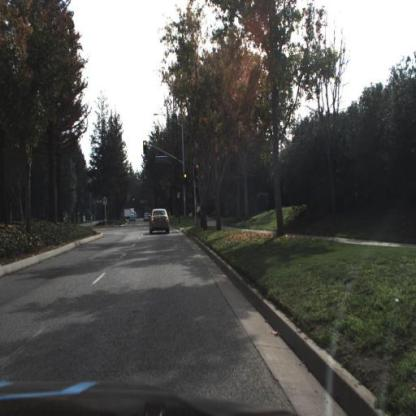car: (149, 207, 171, 235)
trafficLight-Red: (194, 162, 200, 176), (183, 173, 188, 189), (143, 141, 148, 154)
truck: (124, 208, 139, 222)
